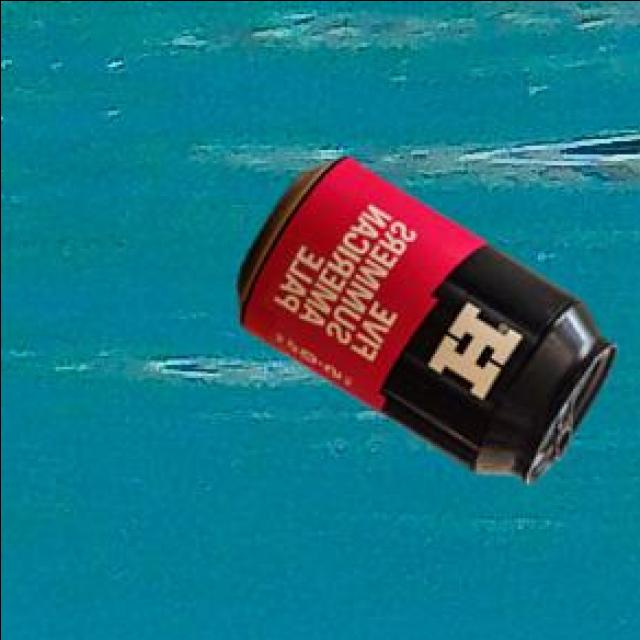logam: (240, 152, 619, 479)
